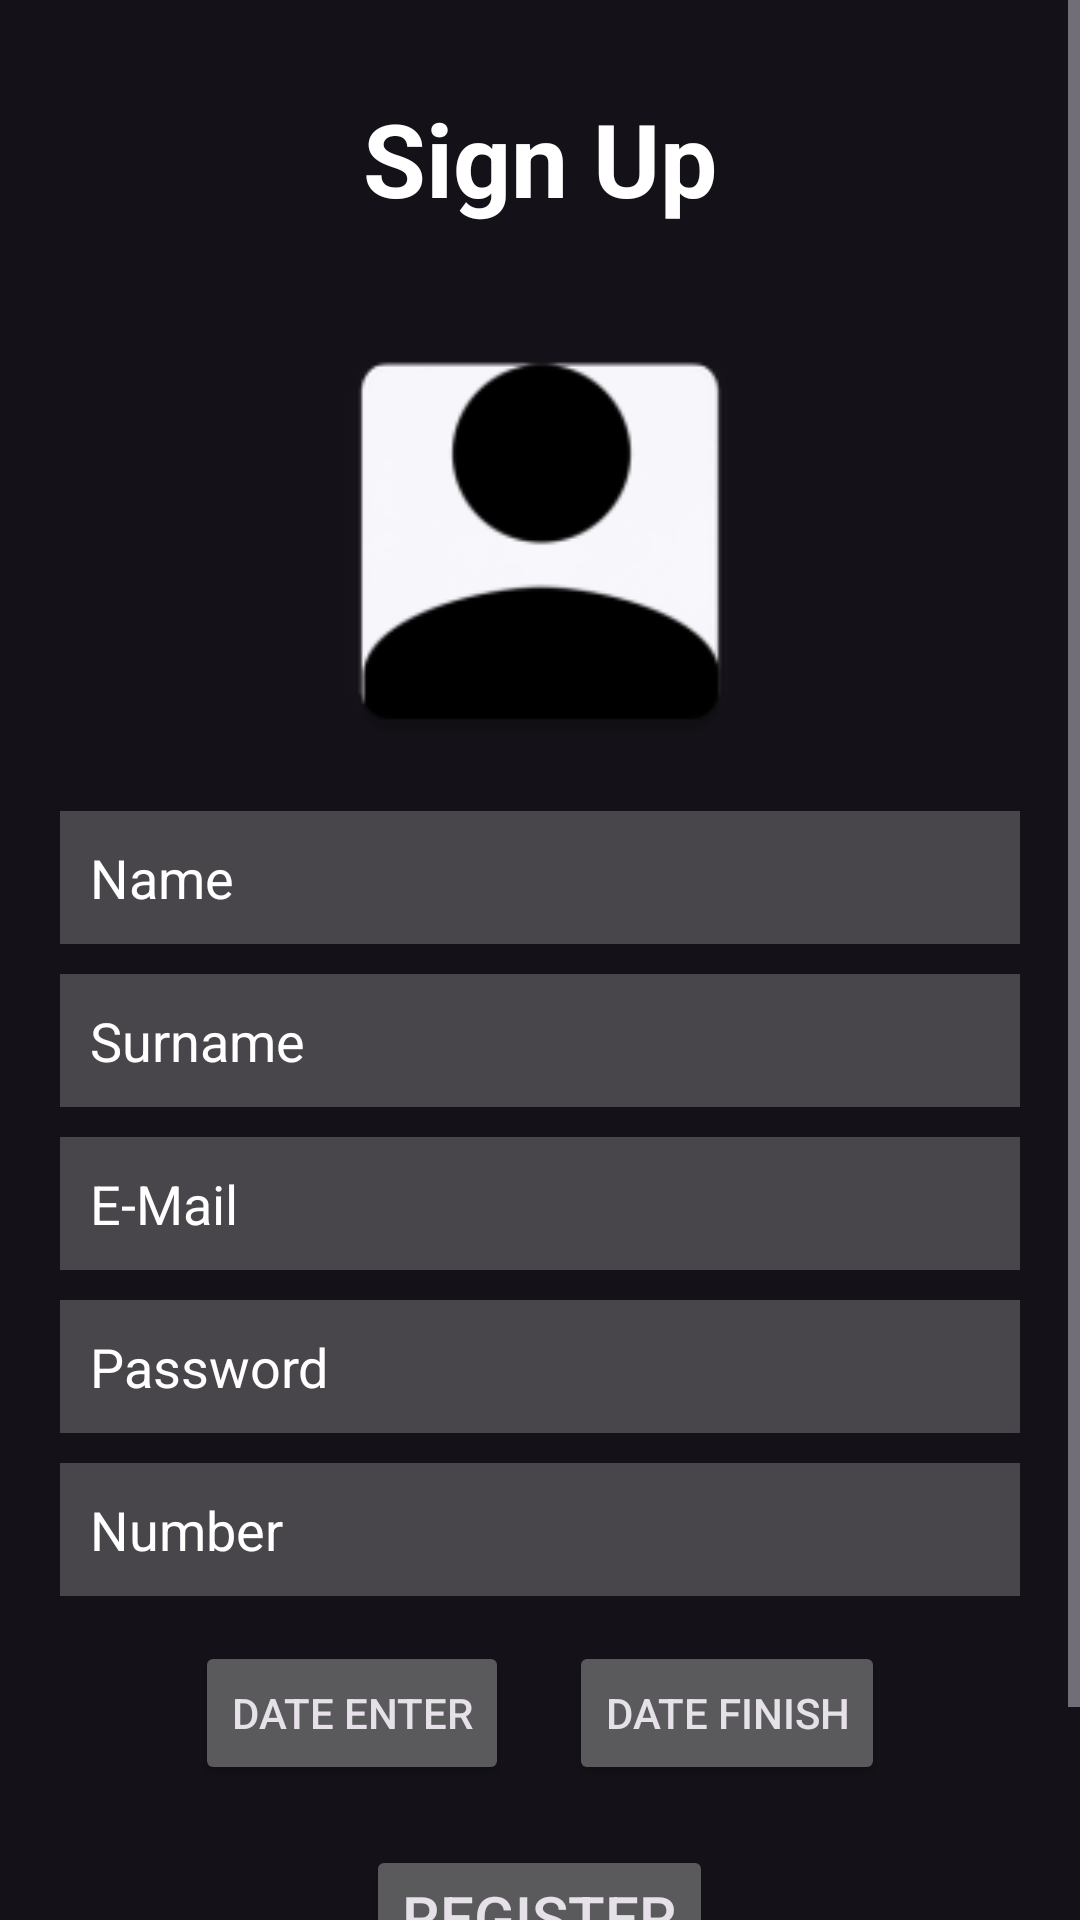

Locate icon controls on the screen. Image size 1080*1920, boxes as (x1, y1, x2, y2).
person: (360, 362, 720, 703)
